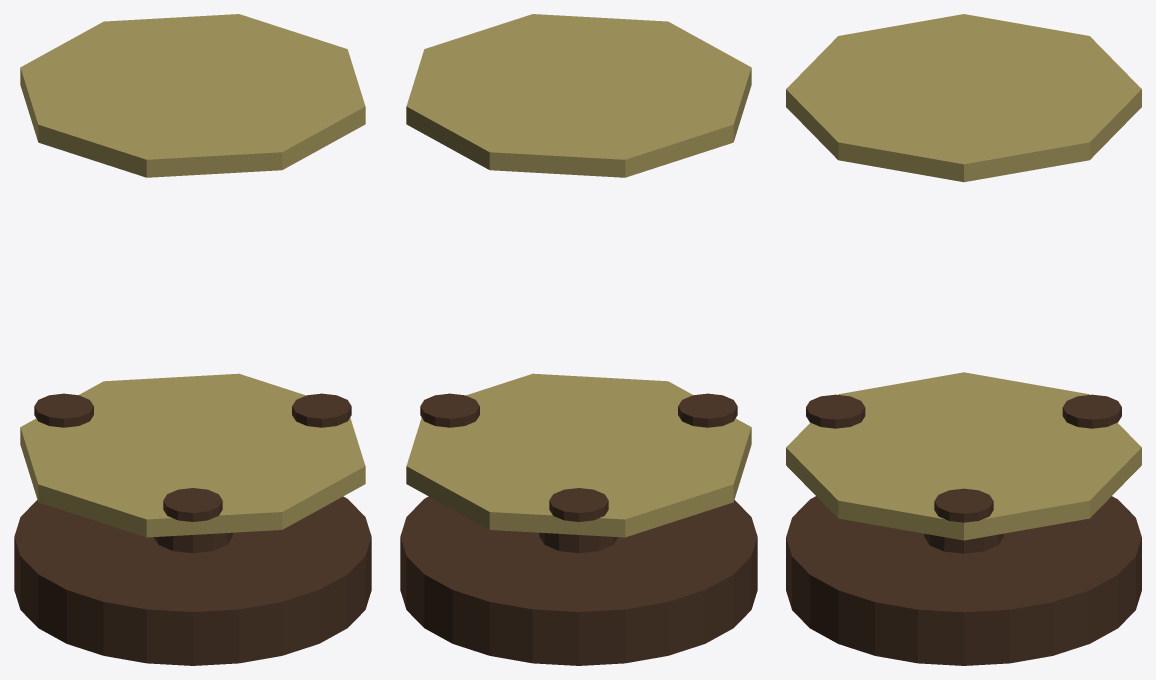
File: craft_lantern_frame.glb
3 renders of one model, left to right at view 1: azimuth 30°, elevation 25°; view 2: azimuth 150°, elevation 25°; view 3: azimuth 270°, elevation 25°, orthographic.
Parts seen in each view (by area): view 1: CRAFT_LanternFrame; view 2: CRAFT_LanternFrame; view 3: CRAFT_LanternFrame.
Part boxes in pixels (box(x1,y1,x2,y2)): CRAFT_LanternFrame: box(14, 14, 371, 665); CRAFT_LanternFrame: box(400, 14, 757, 665); CRAFT_LanternFrame: box(786, 14, 1141, 665).
Bounding box in the file's own units: 0.36 × 0.56 × 0.36.
